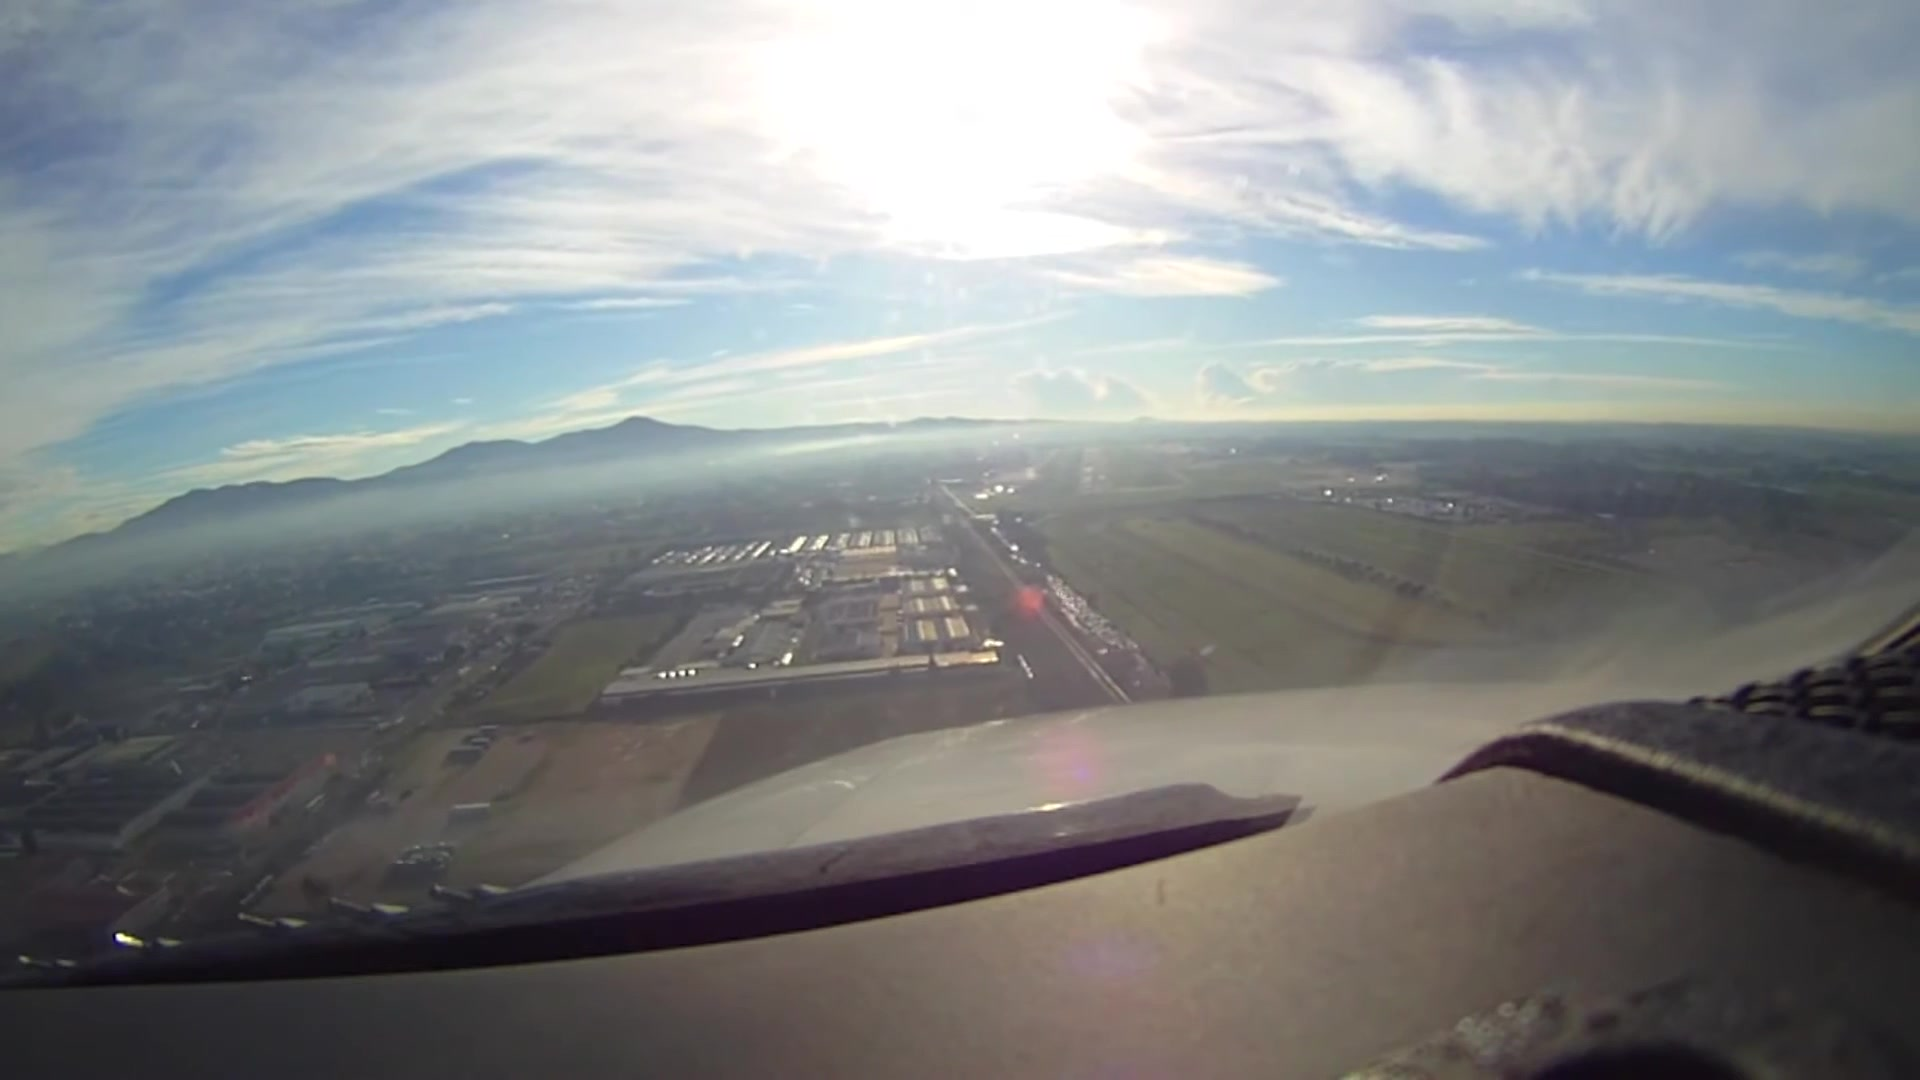runway: (1075, 444, 1116, 496)
